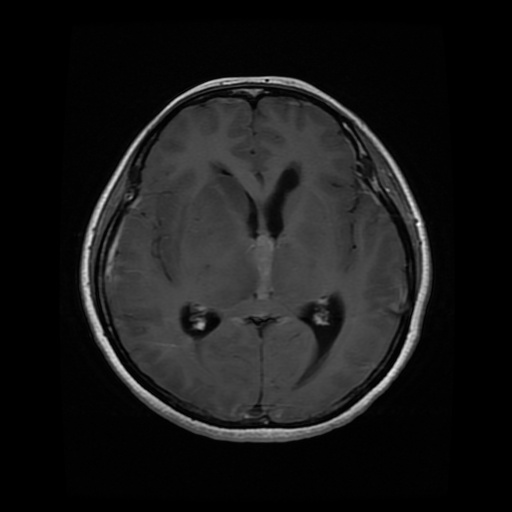glioma: (178, 176, 276, 308)
